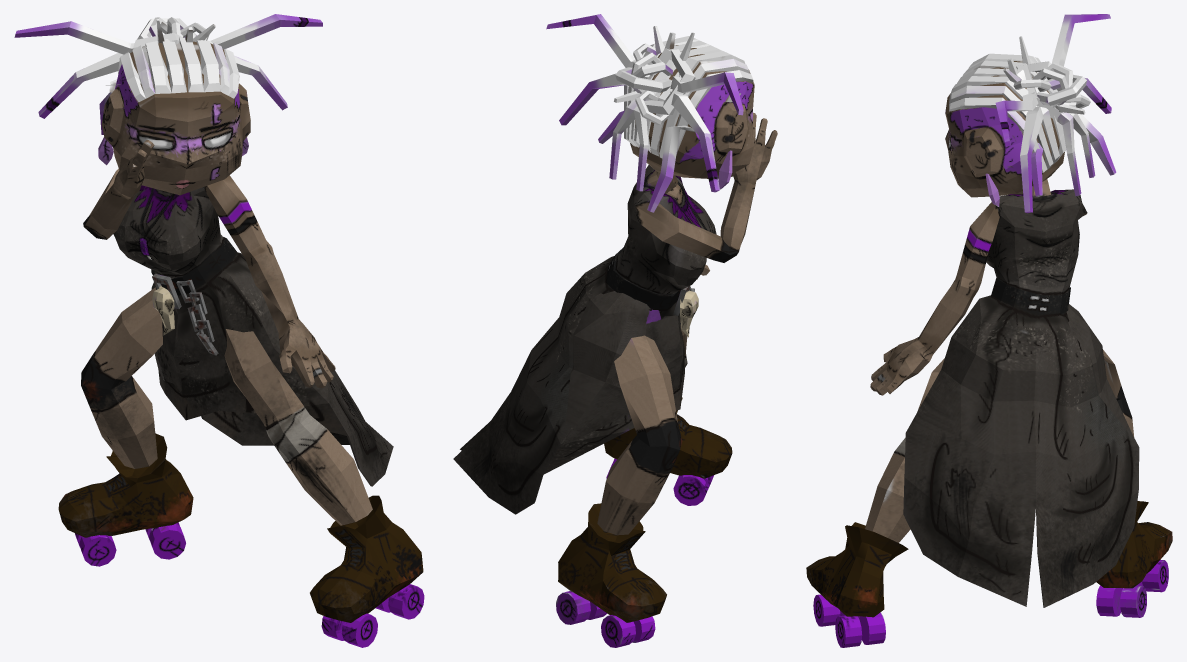
The model's file is bruja_000043.obj.
The picture shows the model from 3 angles, left to right: view 1: azimuth 30°, elevation 25°; view 2: azimuth 150°, elevation 25°; view 3: azimuth 270°, elevation 25°; orthographic projection. The views are drawn at different scales.
Parts seen in each view (by area): view 1: Bruja_Plane.001; view 2: Bruja_Plane.001; view 3: Bruja_Plane.001.
Boxes of the visible parts, left/top/right/bottom form: Bruja_Plane.001: left=14, top=14, right=424, bottom=647; Bruja_Plane.001: left=453, top=14, right=777, bottom=647; Bruja_Plane.001: left=806, top=14, right=1172, bottom=647.
Size of the model in its own units: 9.26 by 15.44 by 9.25.
